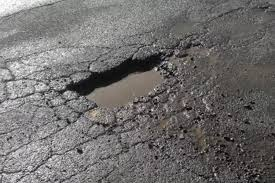pothole: (61, 49, 185, 119)
